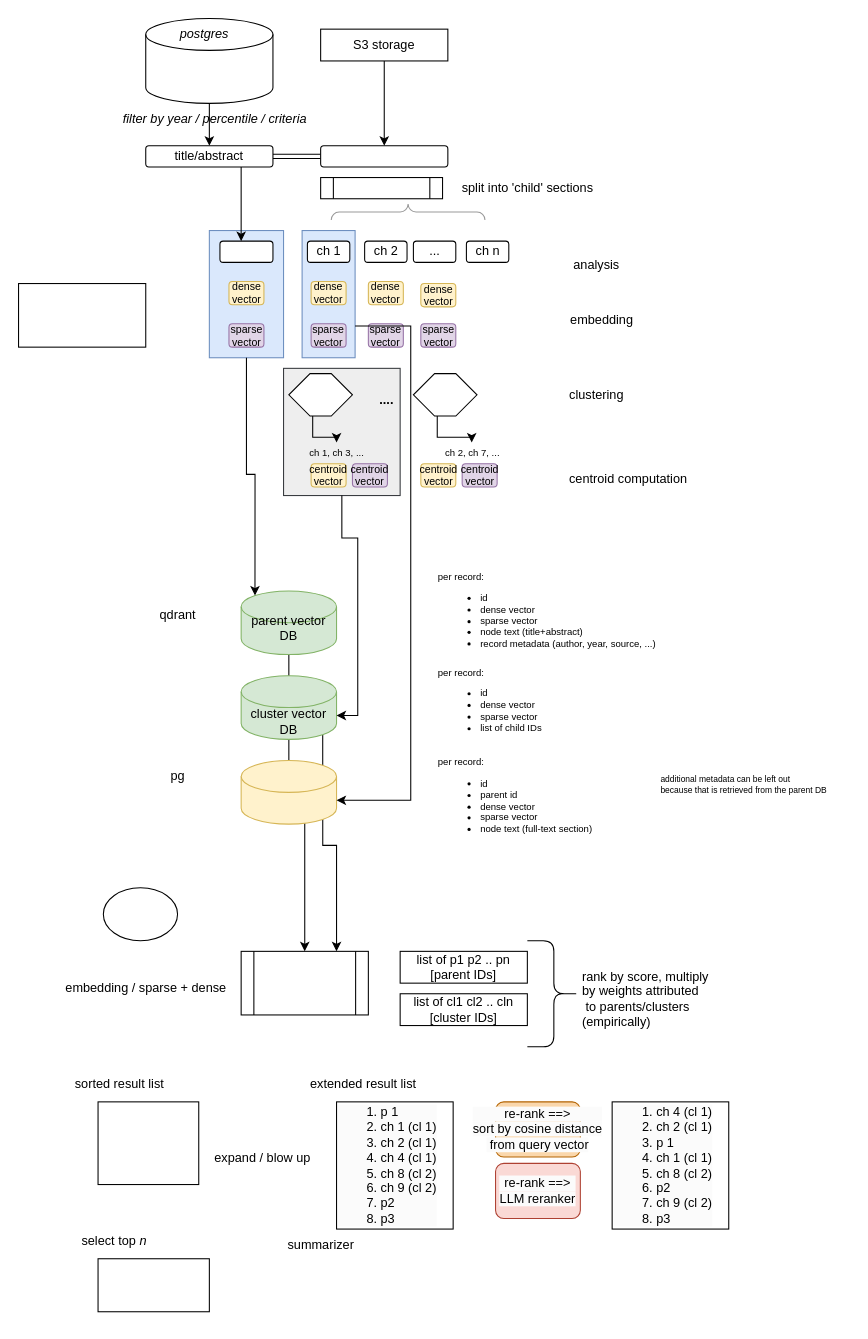
The diagram is 868 pixels wide and 1339 high, and some of its shapes have lost their labels. The box of each missing label's shape, as (x1, y1, x2, y2) in pixels:
ch 4 (cl 1) ch 2 (cl 1) p 1: (97, 1258, 209, 1312)
child vector storage: (240, 759, 337, 824)
cluster 1: (288, 373, 352, 416)
cluster n: (412, 373, 477, 416)
full text: (320, 145, 448, 167)
ingest: (17, 282, 146, 347)
jats parser: (320, 176, 443, 199)
p 1 cl 1 cl 2 p2 p3: (97, 1101, 199, 1185)
parent: (219, 240, 273, 262)
pubmed pubmedcentral: (145, 17, 273, 103)
query: (102, 887, 178, 941)
search: (240, 950, 368, 1015)
